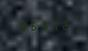eight: (18, 20, 27, 31)
seven: (48, 19, 57, 30)
six: (28, 20, 37, 31)
three: (38, 20, 47, 30)
two: (58, 19, 67, 30)
